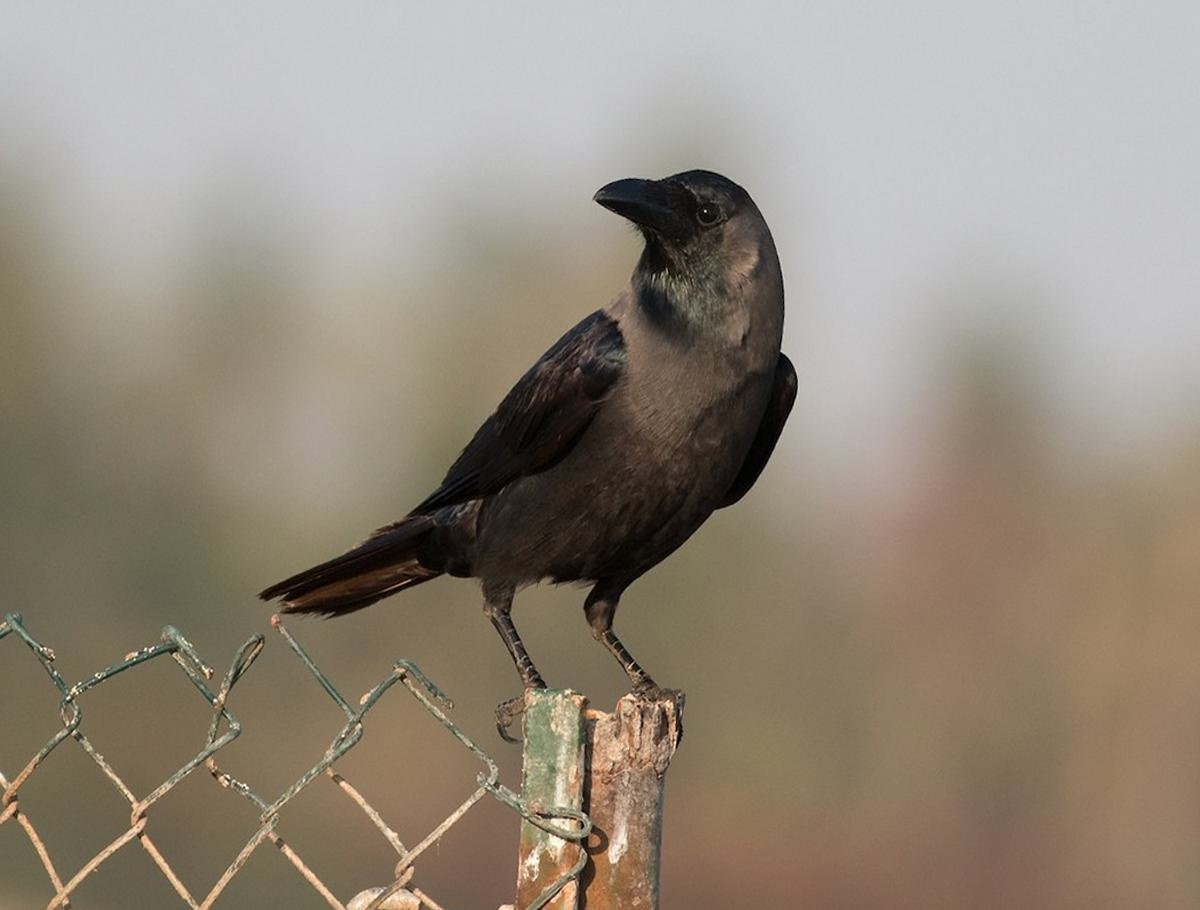crow: (228, 152, 812, 737)
